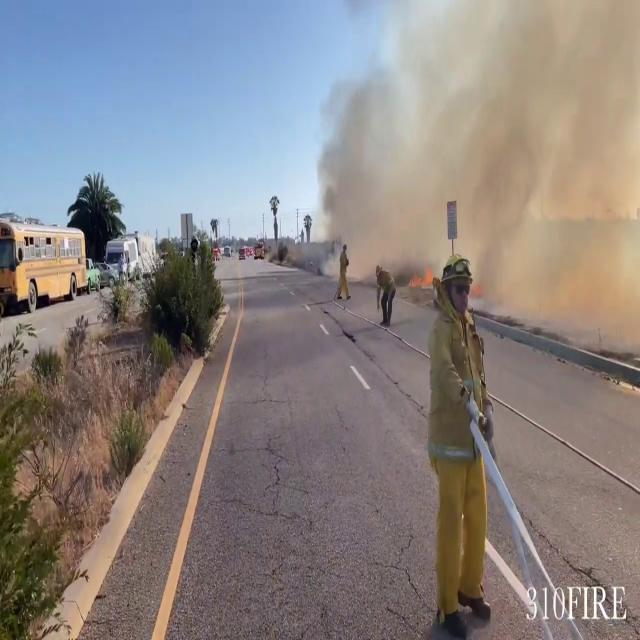Smoke: (311, 0, 640, 298)
